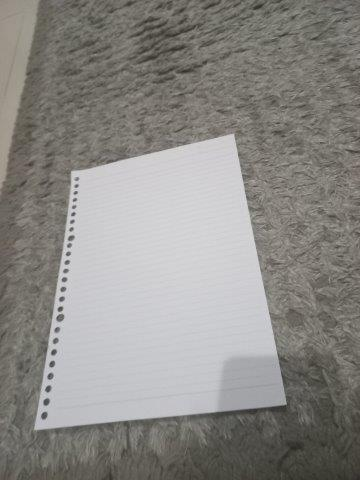kertas: (34, 134, 286, 429)
